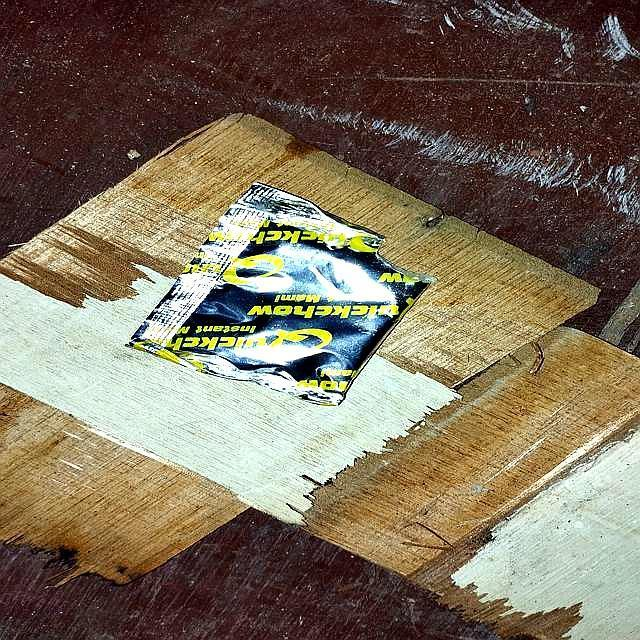Non-biodegradable: (125, 180, 438, 409)
